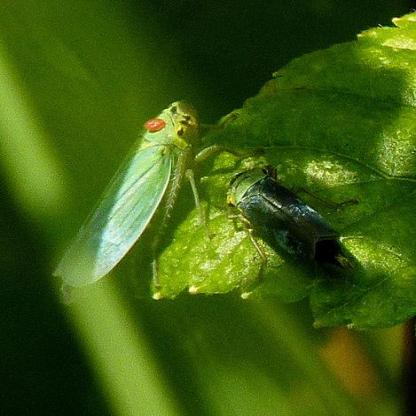Green-Leafhopper: (54, 98, 250, 306), (218, 152, 371, 298)
